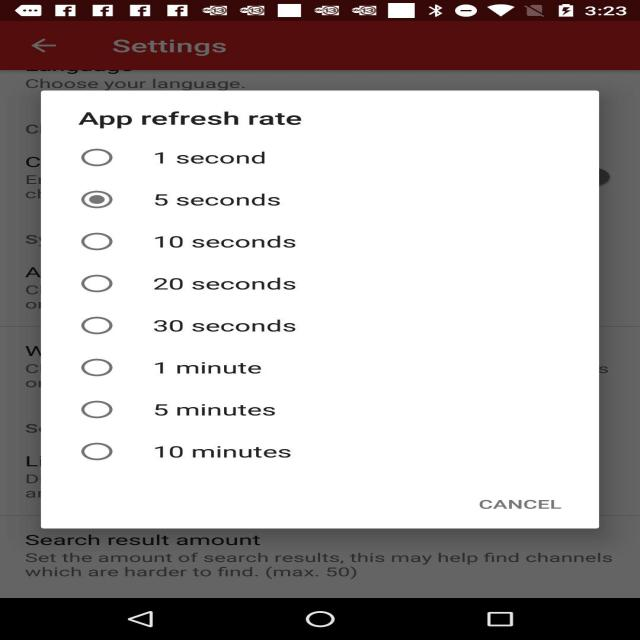button: (76, 145, 131, 476), (81, 604, 561, 638), (468, 497, 577, 523), (19, 36, 65, 56)
text: (147, 150, 336, 470), (72, 102, 339, 133), (112, 26, 268, 65)
